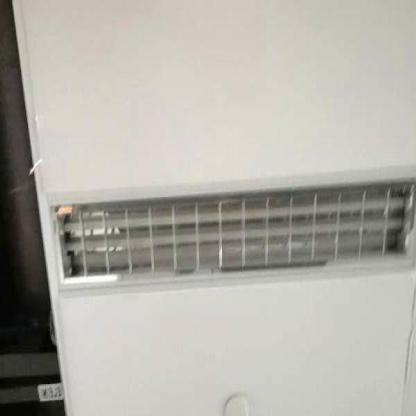light_off: (45, 96, 412, 312)
